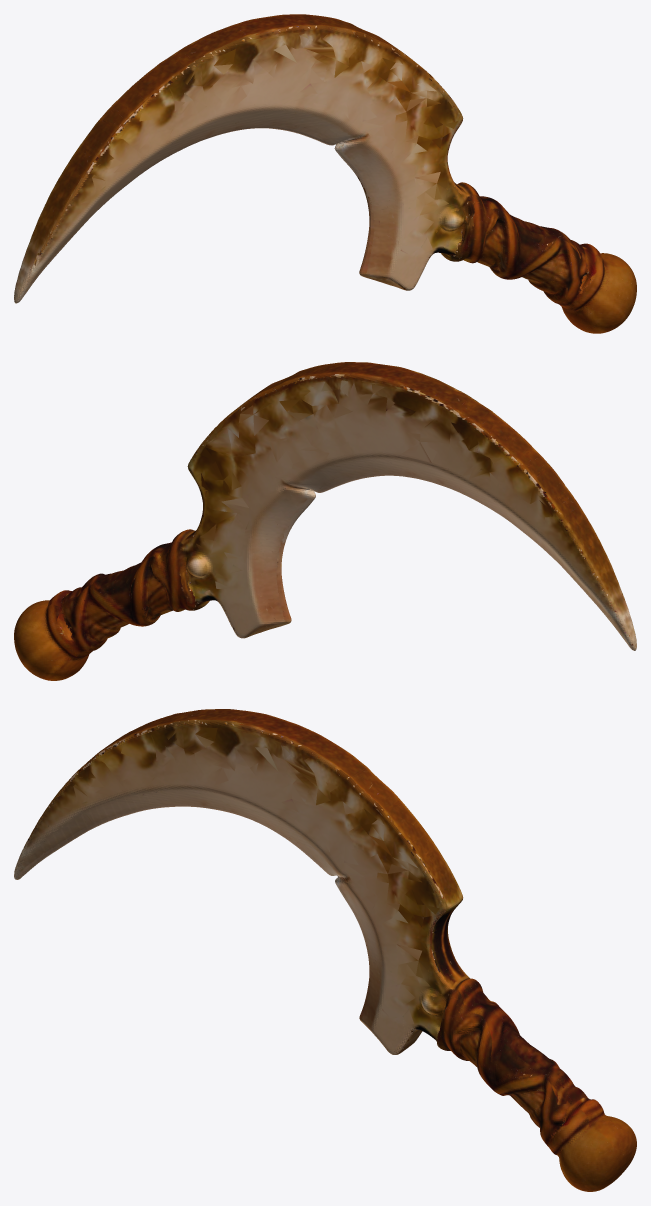
File: farmer-sickle.glb
The picture shows the model from 3 angles, top to bottom: view 1: azimuth 30°, elevation 25°; view 2: azimuth 150°, elevation 25°; view 3: azimuth 330°, elevation 25°; orthographic projection.
Visible parts, largest first — view 1: geometry_0; view 2: geometry_0; view 3: geometry_0.
Boxes of the visible parts, x1,y1,x2,y2 form: geometry_0: (14, 14, 636, 333); geometry_0: (14, 362, 636, 680); geometry_0: (14, 709, 636, 1191).
Bounding box in the file's own units: 3.33 × 2 × 0.3913.
1 material, 1 textured.
